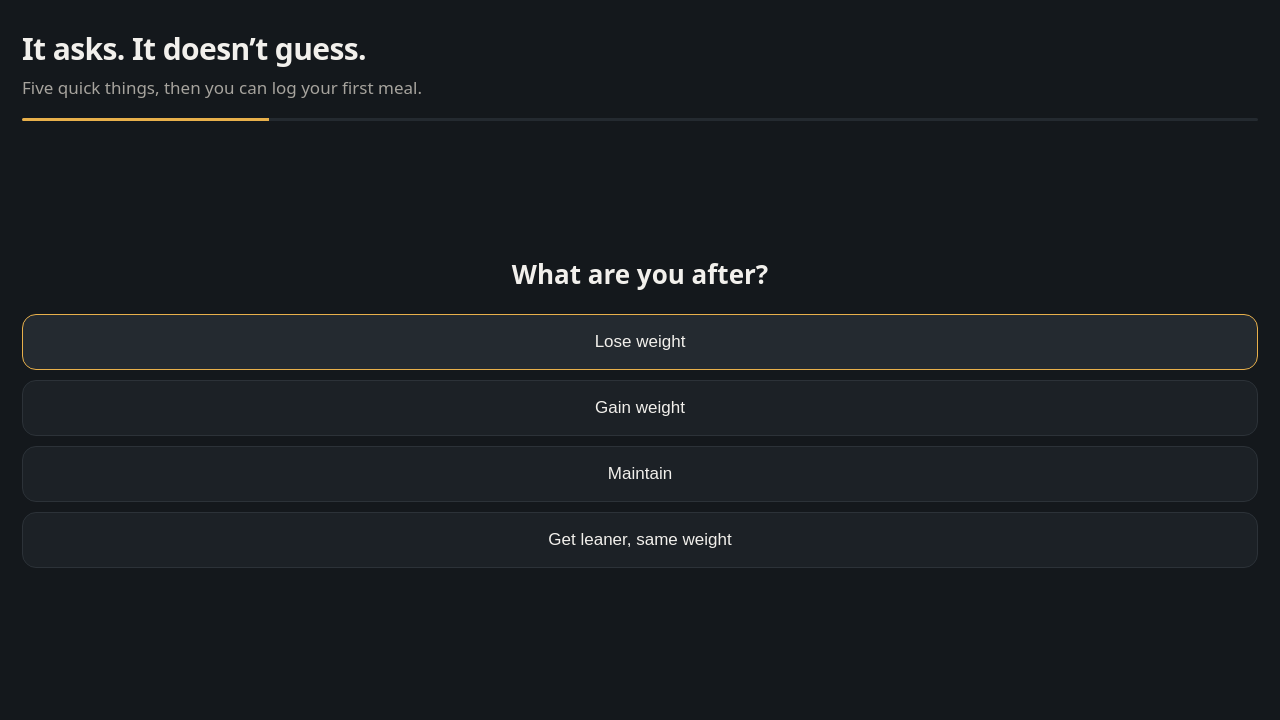
Test: Onboarding › a failure in the first ninety seconds is announced, not silent
Step 1. Click the button "Lose weight" → (640, 342), box top-left (22, 314), bottom-right (1258, 370)
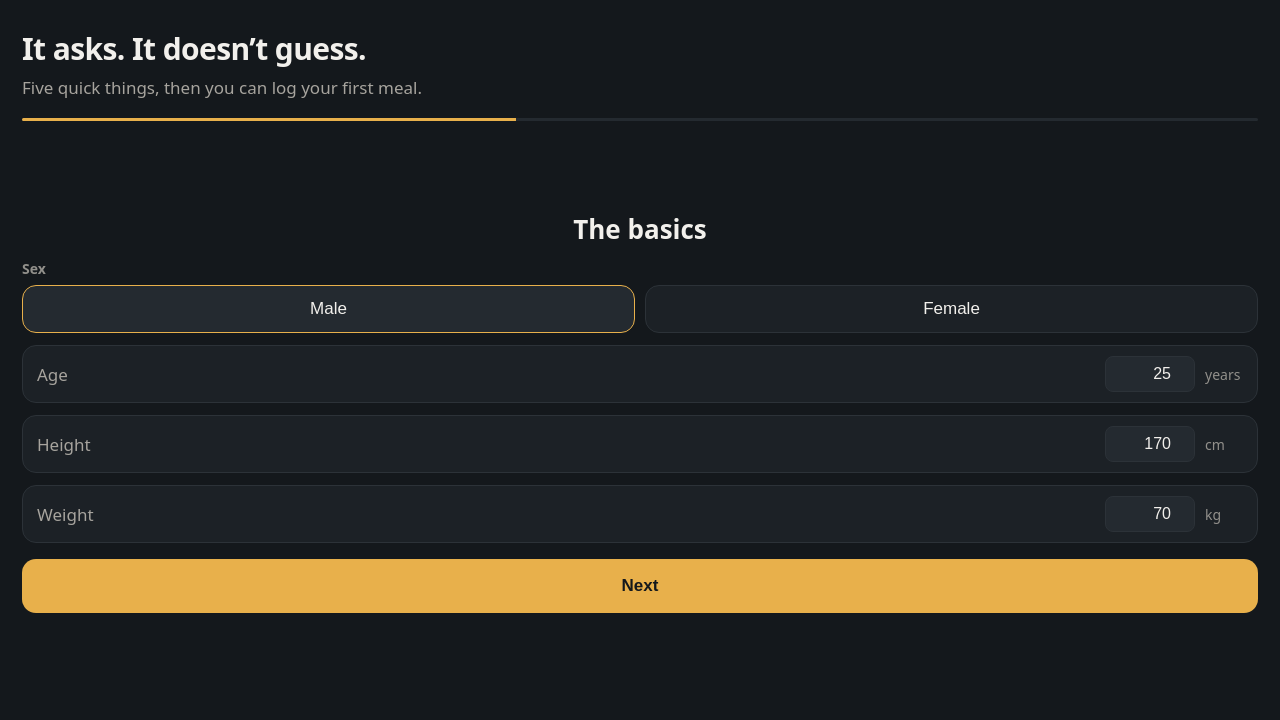
Step 2. Click the button "Next" → (640, 586), box top-left (22, 560), bottom-right (1258, 614)
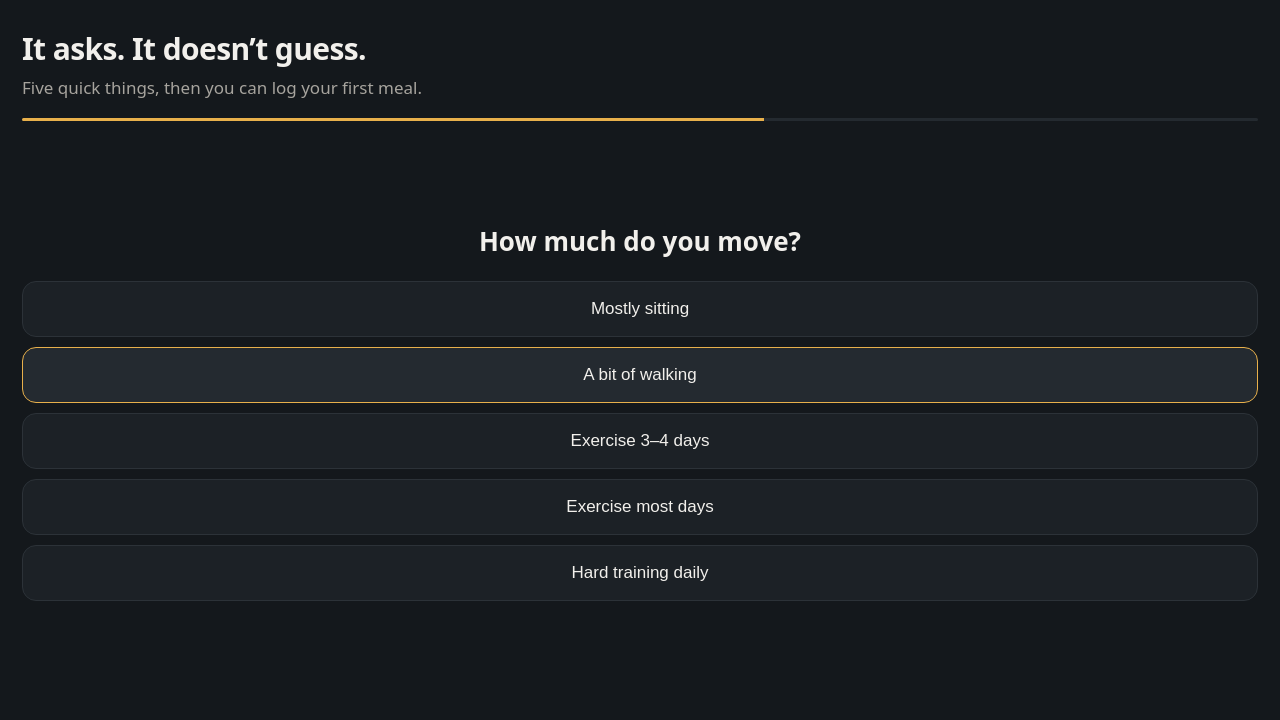
Step 3. Click the button "A bit of walking" → (640, 375), box top-left (22, 347), bottom-right (1258, 403)
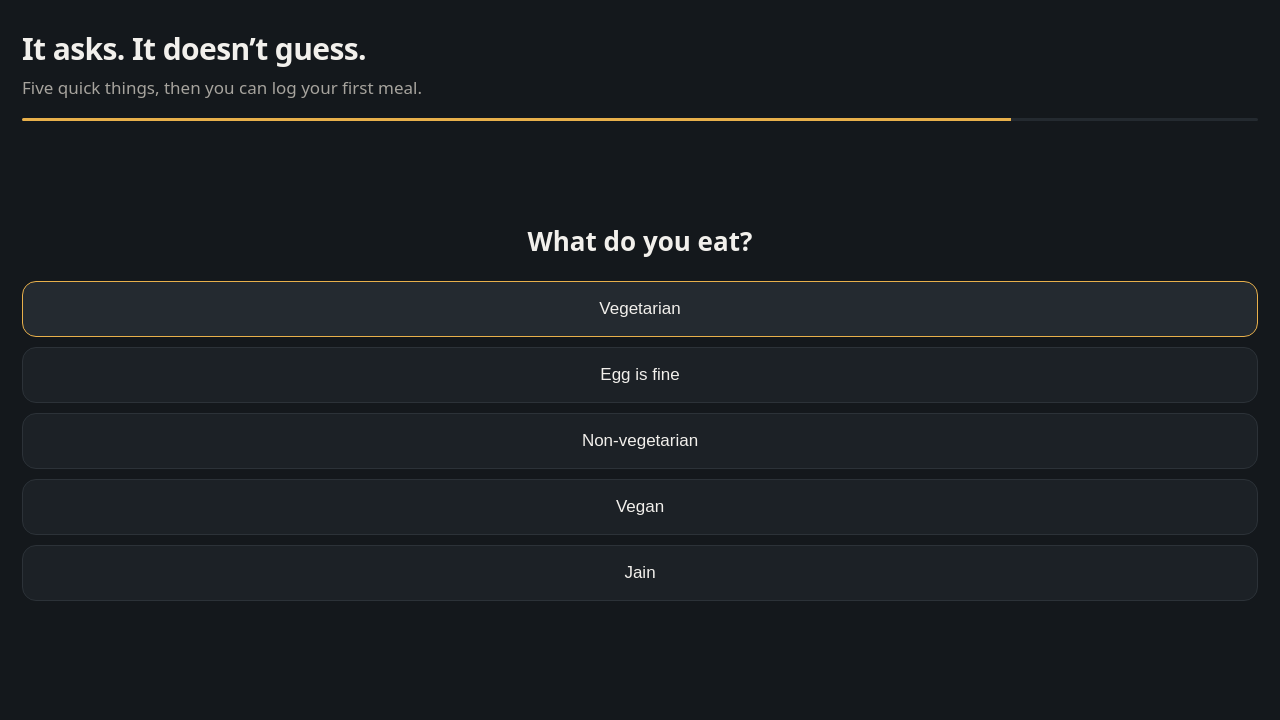
Step 4. Click the button "Vegetarian" → (640, 309), box top-left (22, 281), bottom-right (1258, 337)
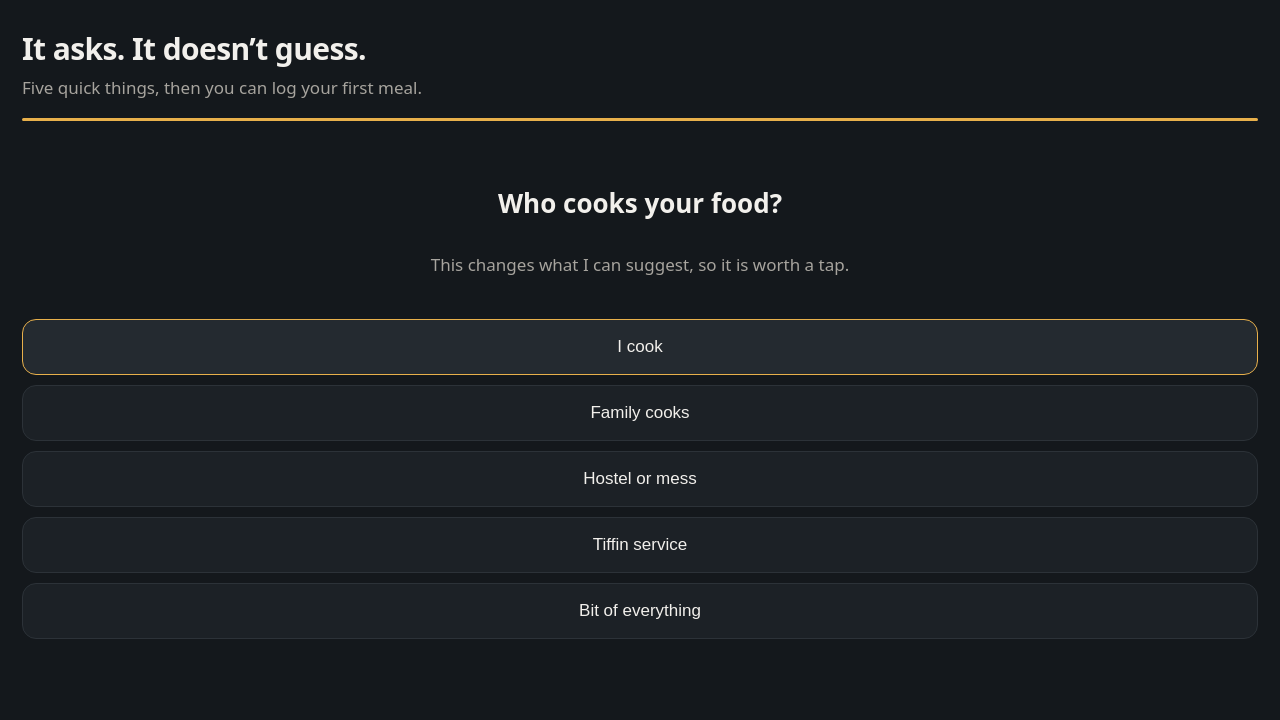
Step 5. Click the button "I cook" → (640, 347), box top-left (22, 319), bottom-right (1258, 375)
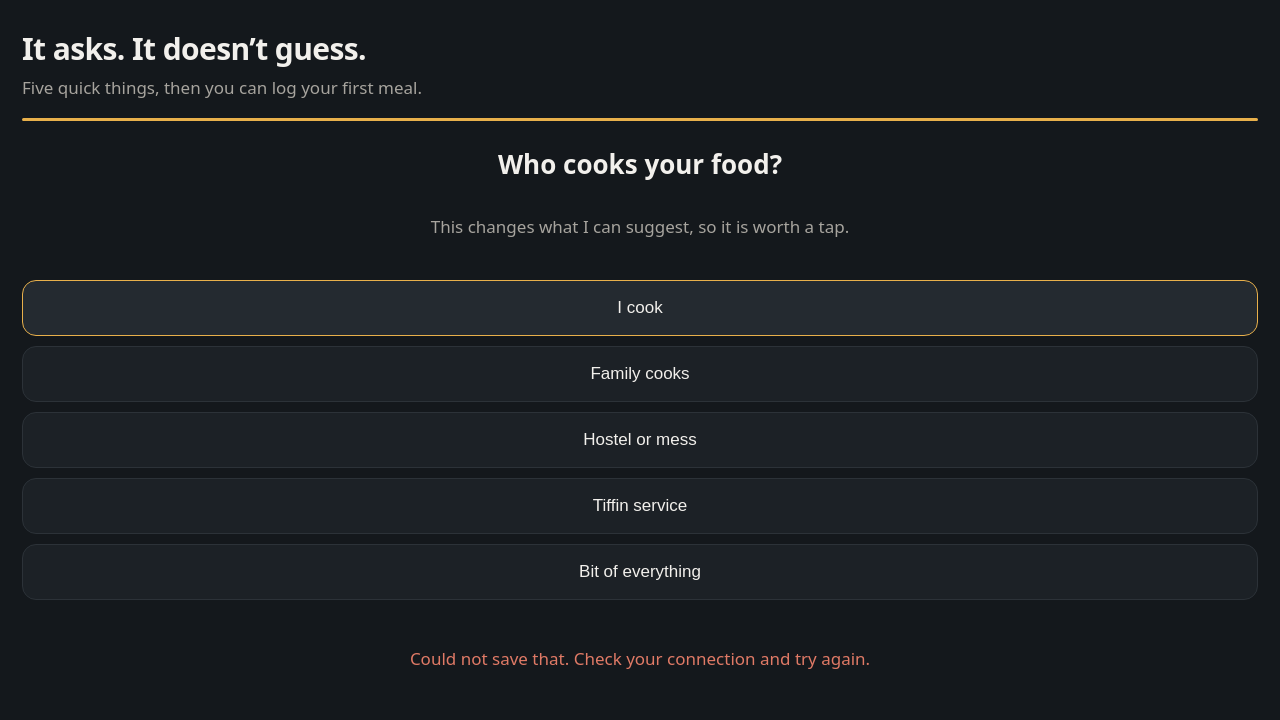
Expected: the message shows "Could not save", top-left (410, 646), bottom-right (870, 670)
